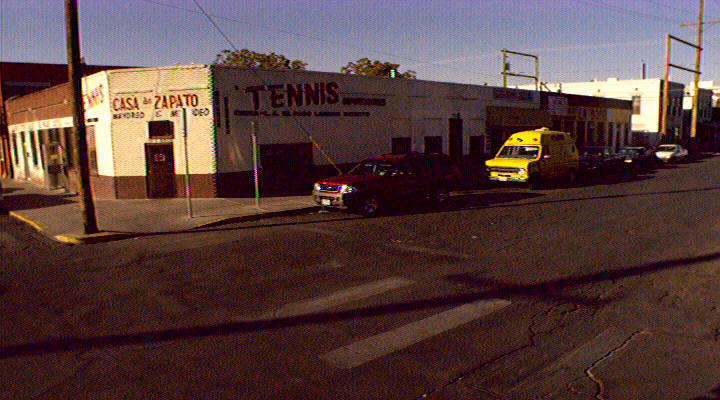Ramp: (111, 214, 213, 239), (31, 218, 77, 240)
